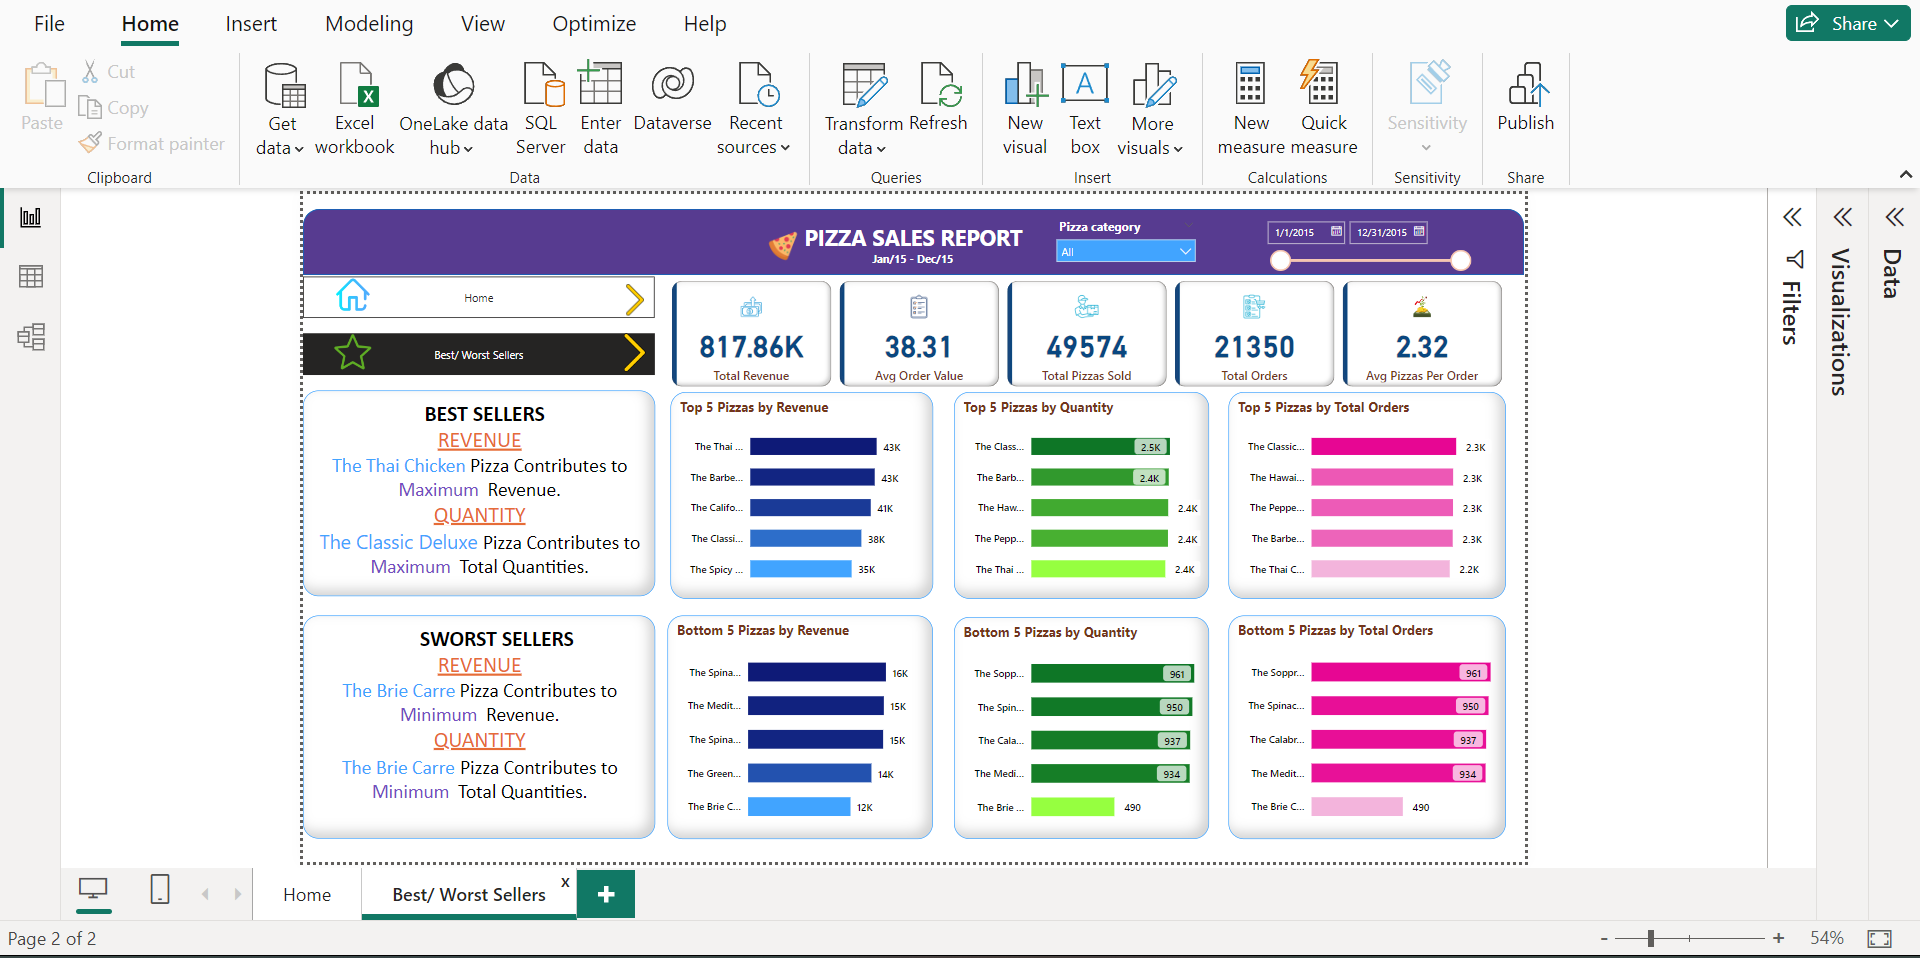

The page's visual inventory and layout, read from the dashboard file:
{"tool":"powerbi","page":{"name":"Best/ Worst Sellers","canvas":[1500,820],"ordinal":1},"visuals":[{"type":"cardVisual","fields":{"Data":["pizza_sales.Total Revenue","pizza_sales.Avg Order Valur","pizza_sales.Total Pizzas Sold","pizza_sales.Total Orders","pizza_sales.Avg Pizzas Per Order"]},"box":[447.8,101.3,1030.1,140],"z":0},{"type":"shape","box":[0,18.4,1500,81.1],"z":1000},{"type":"textbox","box":[563.9,29.5,372.2,51.6],"z":2000},{"type":"textbox","box":[685.5,64.5,127.1,35],"z":3000},{"type":"image","box":[551,40.5,77.4,46.1],"z":4000},{"type":"barChart","title":"Top 5 Pizzas by Revenue","fields":{"Category":["pizza_sales.pizza_name"],"Y":["pizza_sales.Total Revenue"]},"box":[451.5,243.2,322.5,254.3],"z":5000},{"type":"slicer","fields":{"Values":["pizza_sales.pizza_category"]},"box":[916.7,23.6,190.6,60],"z":6000},{"type":"slicer","fields":{"Values":["pizza_sales.order_date"]},"box":[1172,24,270.9,81.1],"z":7000},{"type":"textbox","box":[0,242,432.7,252.7],"z":8000},{"type":"textbox","box":[0,518.3,432.7,274.2],"z":9000},{"type":"barChart","title":"Bottom 5 Pizzas by Revenue","fields":{"Category":["pizza_sales.pizza_name"],"Y":["pizza_sales.Total Revenue"]},"box":[447.8,517.8,326.2,274.6],"z":10000},{"type":"barChart","title":"Top 5 Pizzas by Quantity","fields":{"Category":["pizza_sales.pizza_name"],"Y":["pizza_sales.Total Pizzas Sold"]},"box":[799.7,243.2,313.3,254.3],"z":11000},{"type":"barChart","title":"Bottom 5 Pizzas by Quantity","fields":{"Category":["pizza_sales.pizza_name"],"Y":["pizza_sales.Total Pizzas Sold"]},"box":[799.7,519.6,313.3,272.7],"z":12000},{"type":"barChart","title":"Top 5 Pizzas by Total Orders","fields":{"Category":["pizza_sales.pizza_name"],"Y":["pizza_sales.Total Orders"]},"box":[1136.9,243.2,340.9,254.3],"z":13000},{"type":"barChart","title":"Bottom 5 Pizzas by Total Orders","fields":{"Category":["pizza_sales.pizza_name"],"Y":["pizza_sales.Total Pizzas Sold"]},"box":[1136.9,517.8,340.9,274.6],"z":14000},{"type":"pageNavigator","box":[0,100.7,432.7,51.4],"z":14001},{"type":"pageNavigator","box":[0,171.3,432.7,51.4],"z":14002},{"type":"image","box":[383.4,100.7,49.3,57.8],"z":14003},{"type":"image","box":[362,164.9,92.1,57.8],"z":14004},{"type":"image","box":[0,98.5,122.1,51.4],"z":14005},{"type":"image","box":[25.7,164.9,70.7,55.7],"z":14006}]}

Visuals, with their boxes on the page's 1500x820 design canvas (x1, y1, x2, y2). These are canvas units, not pixel positions in the 1920x958 screenshot, which may show the page scaled, cropped or inside an application window:
cardVisual - pizza_sales.Total Revenue x pizza_sales.Avg Order Valur: box=[448, 101, 1478, 241]
shape: box=[0, 18, 1500, 100]
textbox: box=[564, 30, 936, 81]
textbox: box=[686, 64, 813, 100]
image: box=[551, 40, 628, 87]
"Top 5 Pizzas by Revenue" barChart: box=[452, 243, 774, 498]
slicer - pizza_sales.pizza_category: box=[917, 24, 1107, 84]
slicer - pizza_sales.order_date: box=[1172, 24, 1443, 105]
textbox: box=[0, 242, 433, 495]
textbox: box=[0, 518, 433, 792]
"Bottom 5 Pizzas by Revenue" barChart: box=[448, 518, 774, 792]
"Top 5 Pizzas by Quantity" barChart: box=[800, 243, 1113, 498]
"Bottom 5 Pizzas by Quantity" barChart: box=[800, 520, 1113, 792]
"Top 5 Pizzas by Total Orders" barChart: box=[1137, 243, 1478, 498]
"Bottom 5 Pizzas by Total Orders" barChart: box=[1137, 518, 1478, 792]
pageNavigator: box=[0, 101, 433, 152]
pageNavigator: box=[0, 171, 433, 223]
image: box=[383, 101, 433, 158]
image: box=[362, 165, 454, 223]
image: box=[0, 98, 122, 150]
image: box=[26, 165, 96, 221]
